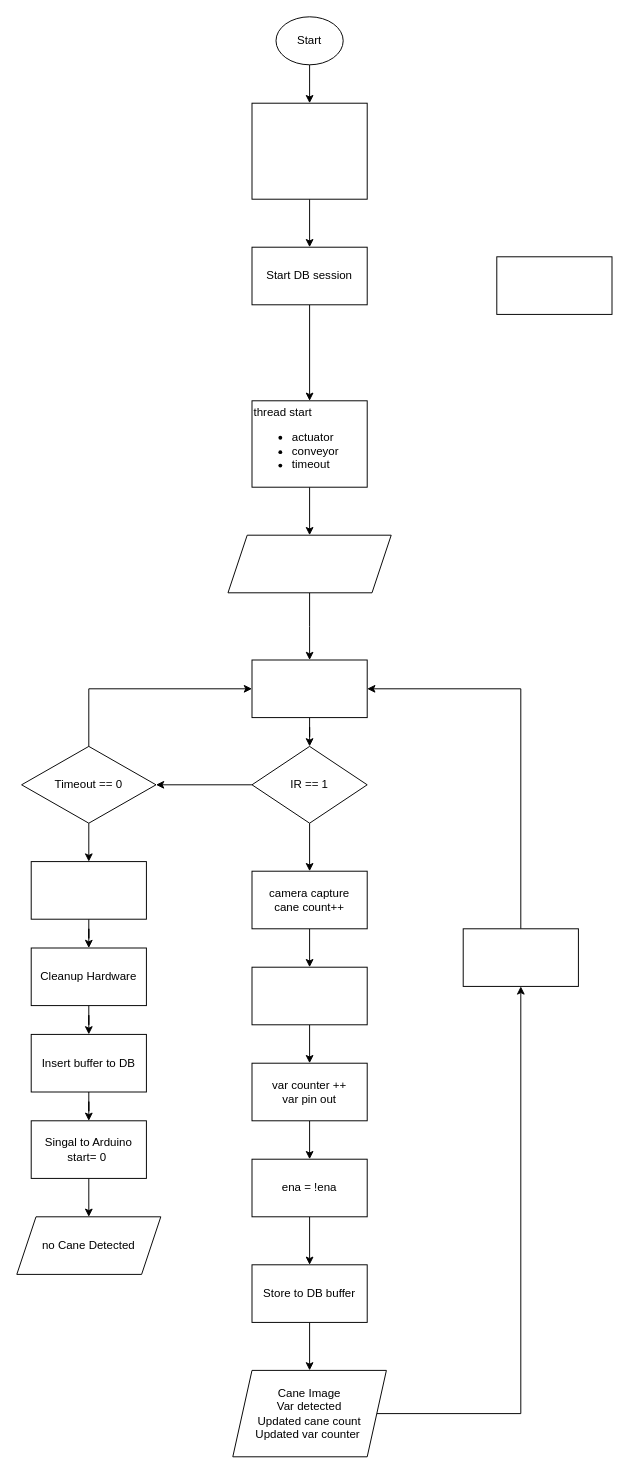
Image size: 629x1474. Some labels were removed from this diagram. Here are the shapes that lost their labels. From the top down, the centre of each, then its label:
the point at 309,150: Initiate hardware motor actuator sensors rpi pins
the point at 554,285: Initiate Arduino Com start = 1 ena = 0
the point at 309,563: conveyor: Running hopper: Feeding
the point at 309,688: IR sensor read
the point at 88,890: Thread stop
the point at 520,957: Tmeout Reset
the point at 309,995: Image Classification
